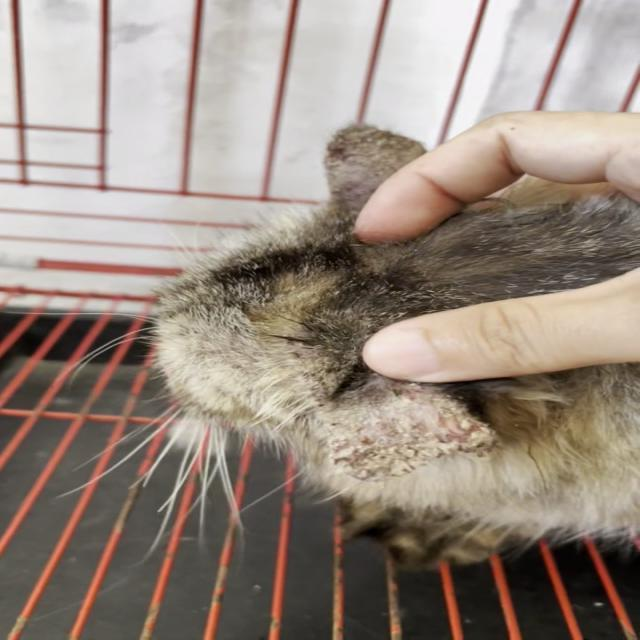ghe: (312, 397, 504, 496)
